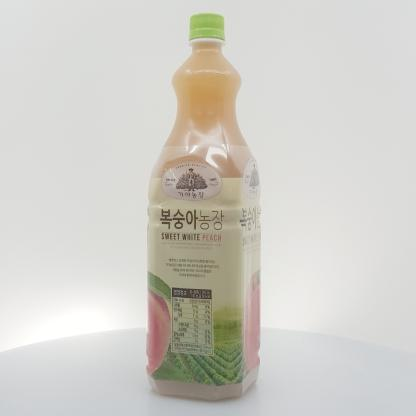-------1-5L: (146, 13, 261, 402)
